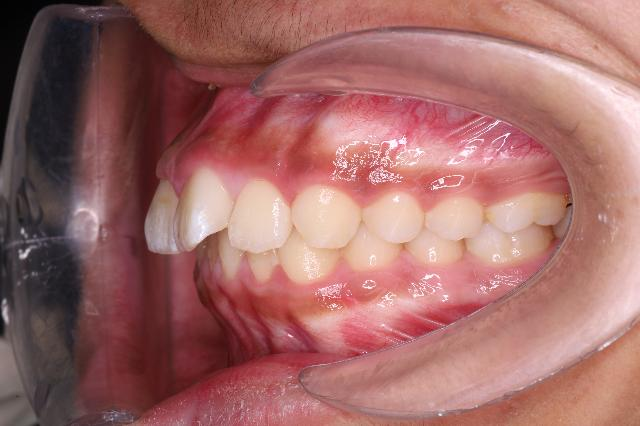canine class II 1/4: (276, 182, 404, 290)
molar class I: (464, 189, 568, 274)
